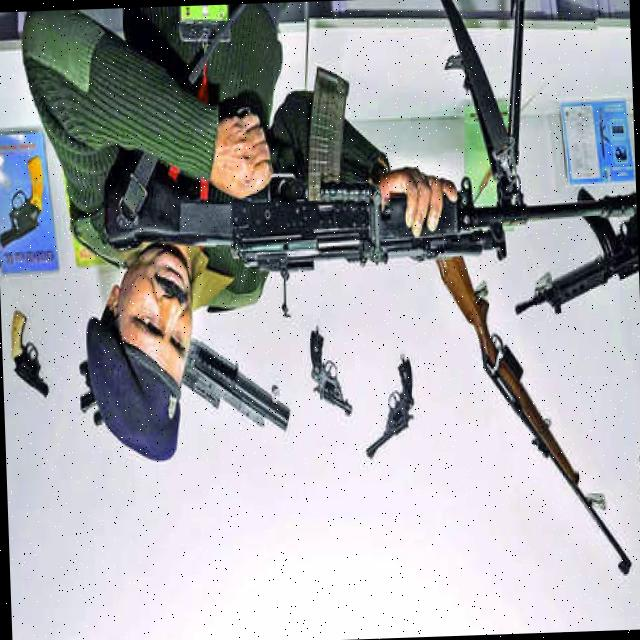Automaticrifle: (94, 82, 638, 276)
